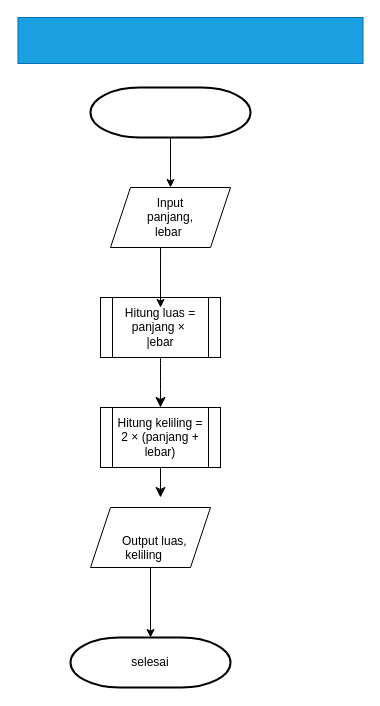
Some shapes in this 380 by 706 pixel diagram are drawn without their labels. The shapes that lost their labels are listed below. From the top down, each one's centre as x and y in pixels, then its label:
point (190, 40): Flowchart Menghitung Luas dan Keliling Persegi Panjang (sequence)
point (170, 112): Mulai
